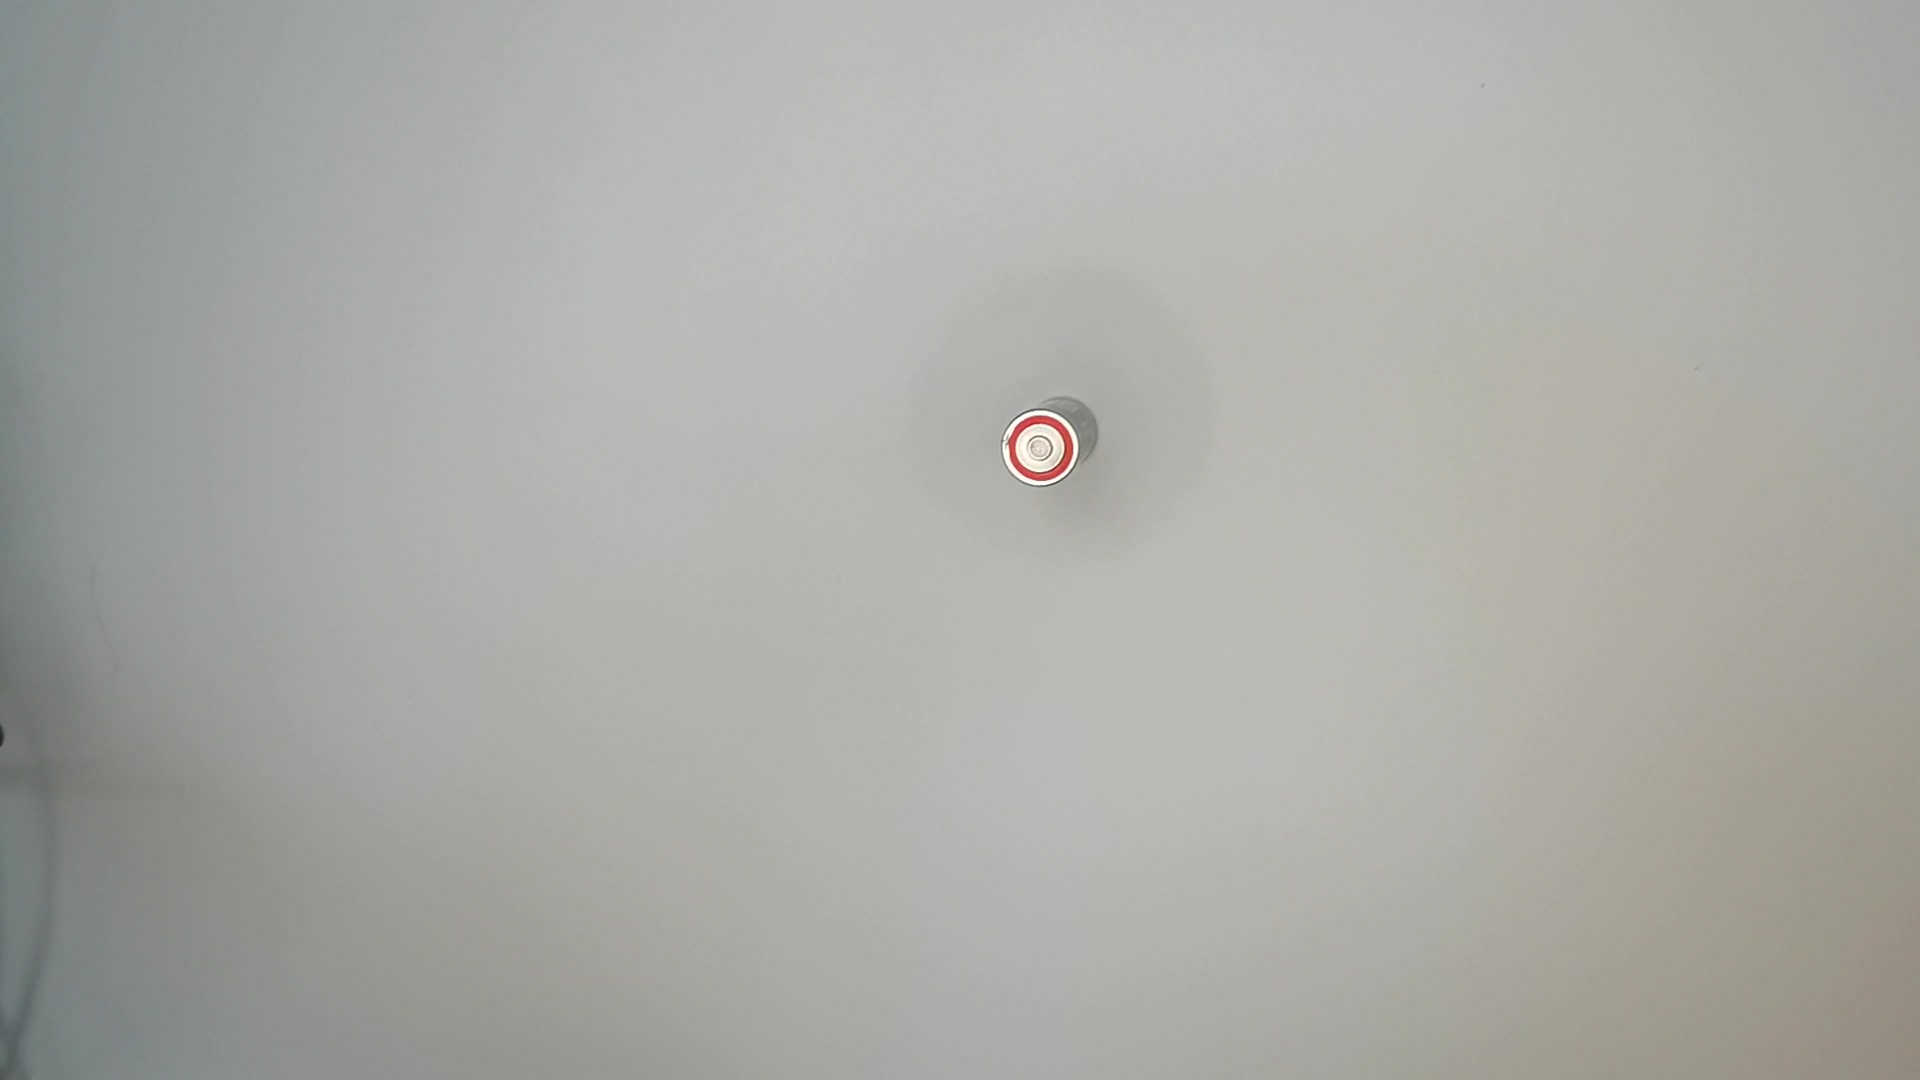battery: (996, 386, 1108, 491)
